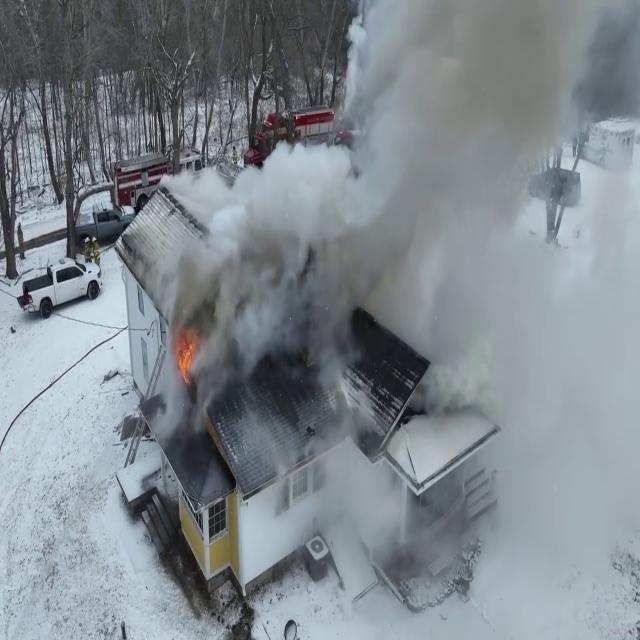Fire: (170, 318, 204, 386)
Smoke: (222, 0, 629, 450), (304, 426, 424, 590)
